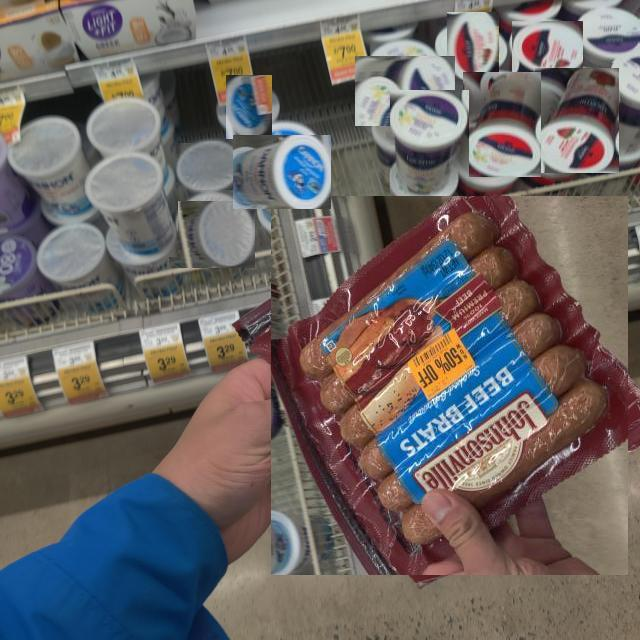Meat: (271, 196, 628, 575)
Yogurt: (87, 153, 178, 257), (535, 68, 619, 173), (462, 71, 541, 177), (391, 90, 469, 196), (10, 117, 93, 214), (232, 136, 331, 209), (38, 225, 124, 308), (355, 56, 455, 126), (168, 201, 255, 268), (512, 20, 583, 72), (446, 13, 499, 82), (578, 9, 639, 63), (177, 142, 240, 190), (226, 76, 272, 139)
